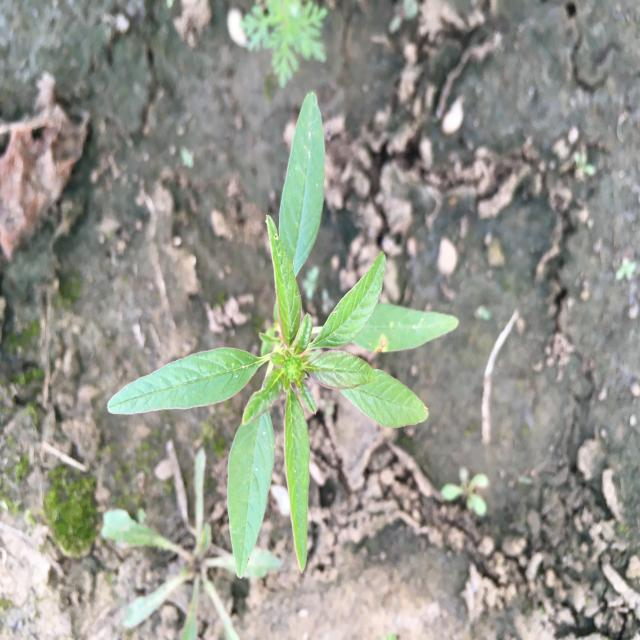Waterhemp: (105, 89, 462, 582)
